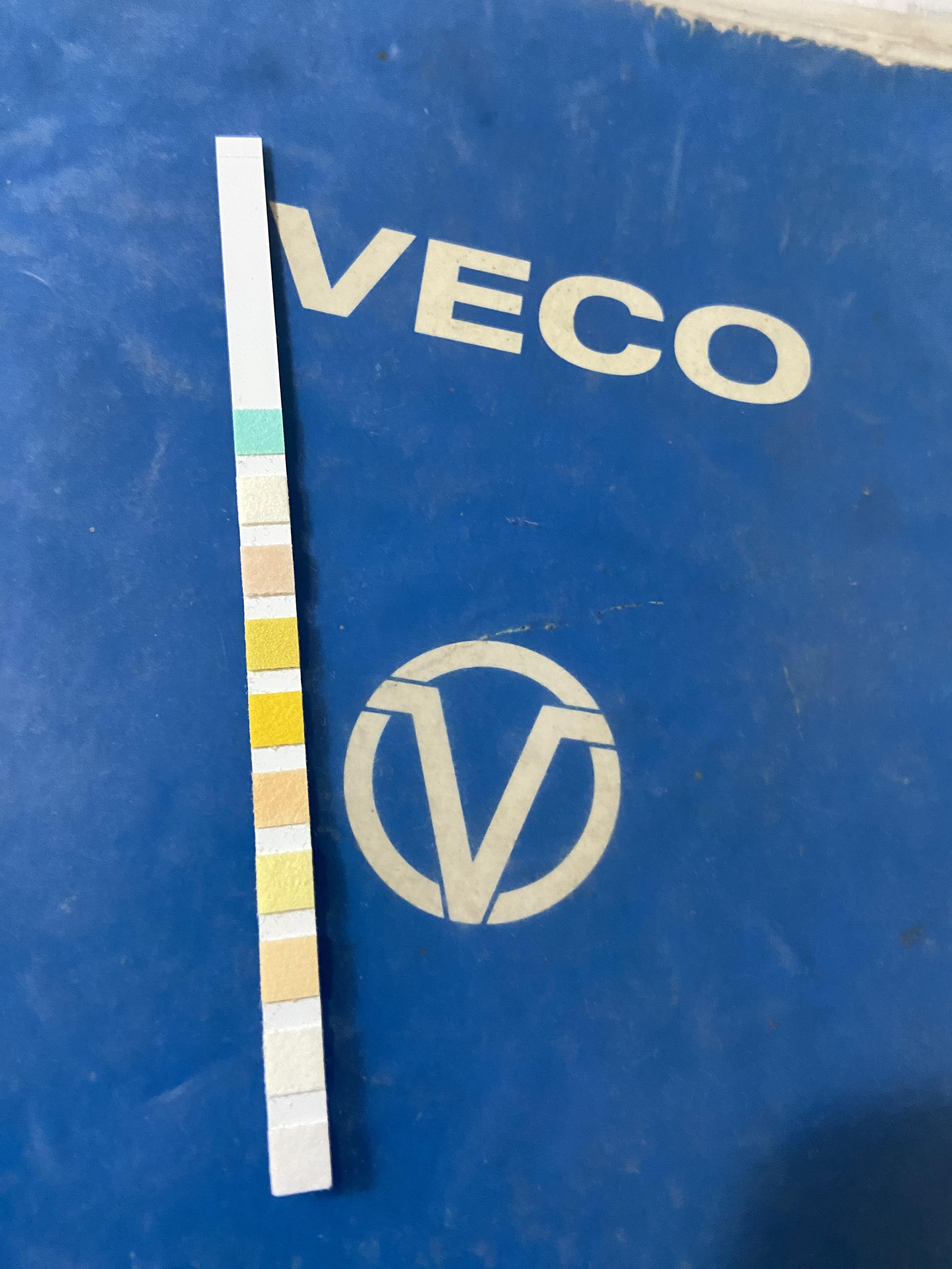Bilirubin: (240, 480, 288, 523)
Blood: (252, 696, 302, 743)
Glucose: (235, 410, 282, 453)
Ketone: (245, 547, 292, 590)
Leukocytes: (272, 1131, 329, 1189)
Nitrite: (267, 1033, 321, 1086)
Protein: (259, 855, 311, 906)
SpGravity: (248, 621, 298, 667)
Urobilinogen: (263, 942, 316, 996)
pH: (256, 775, 307, 822)
strip: (216, 138, 332, 1197)
